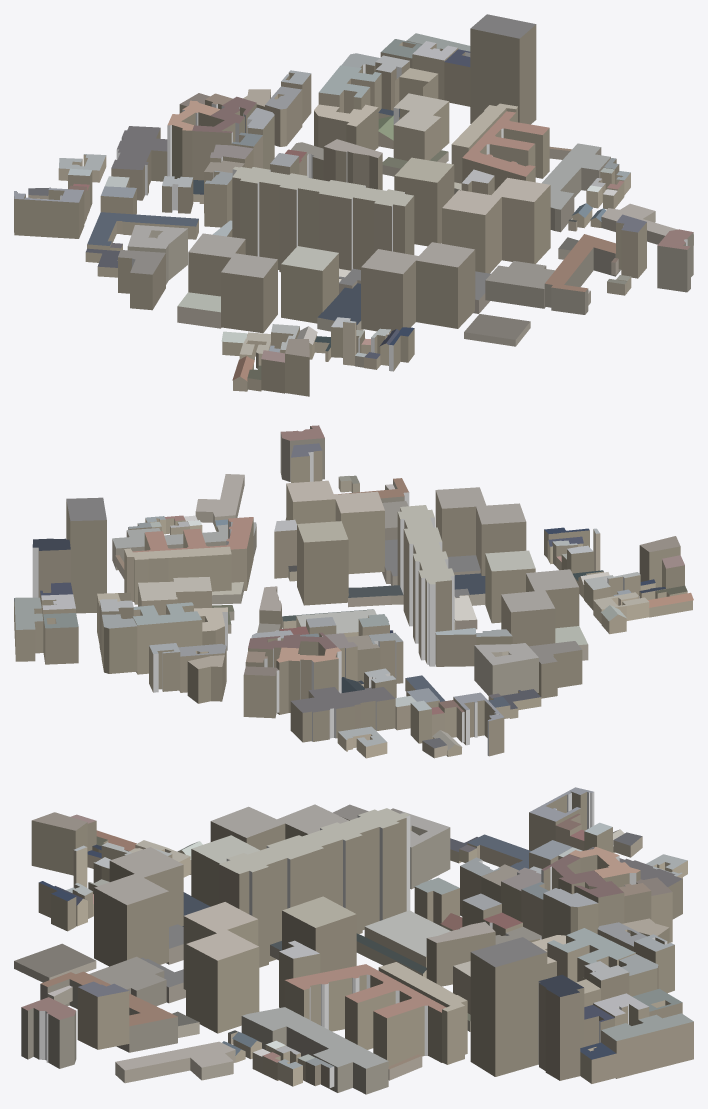
3 renders of one model, top to bottom at view 1: azimuth 30°, elevation 25°; view 2: azimuth 150°, elevation 25°; view 3: azimuth 270°, elevation 25°, orthographic. The views are drawn at different scales.
Visible parts, largest first — view 1: tuile; view 2: tuile; view 3: tuile.
Part boxes in pixels (x1,y1,x2,y2): tuile: (14, 14, 693, 396); tuile: (14, 425, 693, 758); tuile: (14, 787, 693, 1094).
Size of the model in its own units: 271 by 64.77 by 278.
